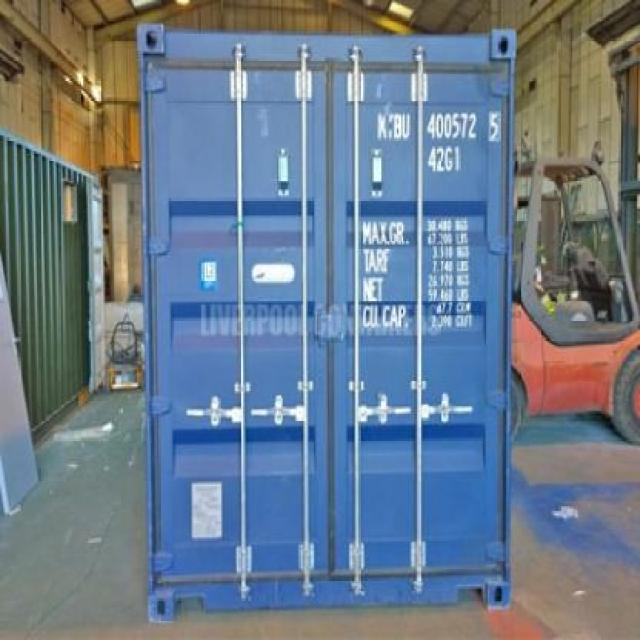ISO: (428, 144, 464, 172)
container_number: (375, 111, 502, 139)
